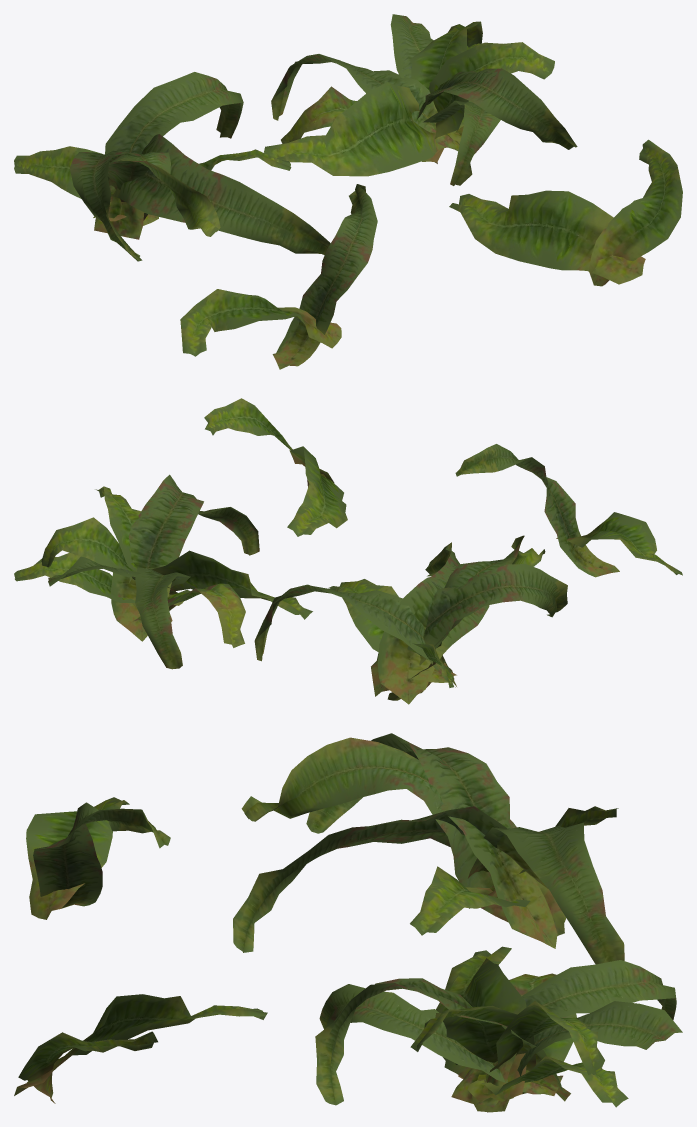
Rendered from fern_02.glb.
3 views of the same model, one above another, from view 1: azimuth 30°, elevation 25°; view 2: azimuth 150°, elevation 25°; view 3: azimuth 270°, elevation 25° (orthographic). The views are drawn at different scales.
Visible parts, largest first — view 1: fern_02_c, fern_02_b, fern_02_d, fern_02_a; view 2: fern_02_c, fern_02_b, fern_02_a, fern_02_d; view 3: fern_02_b, fern_02_c, fern_02_a, fern_02_d.
Part boxes in pixels (left/top/right/bottom): fern_02_c: left=264, top=14, right=577, bottom=185; fern_02_b: left=14, top=72, right=330, bottom=261; fern_02_d: left=449, top=139, right=682, bottom=286; fern_02_a: left=180, top=184, right=377, bottom=369; fern_02_c: left=14, top=474, right=312, bottom=669; fern_02_b: left=254, top=535, right=567, bottom=704; fern_02_a: left=455, top=444, right=682, bottom=577; fern_02_d: left=204, top=398, right=347, bottom=536; fern_02_b: left=233, top=733, right=624, bottom=964; fern_02_c: left=315, top=946, right=682, bottom=1112; fern_02_a: left=26, top=797, right=170, bottom=919; fern_02_d: left=14, top=994, right=267, bottom=1103.
Size of the model in its own units: 1.74 by 0.4371 by 1.53.
1 material, 1 textured.
